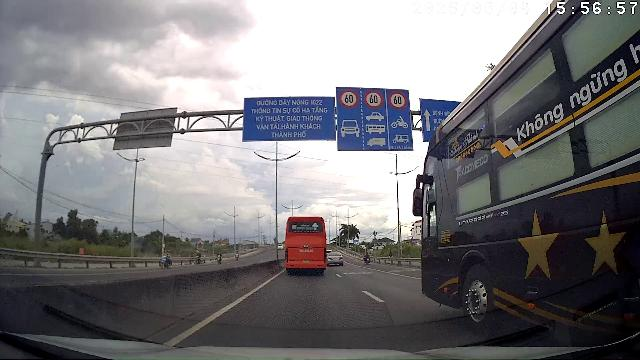127-toc-do-toi-da-60: (364, 89, 384, 109), (388, 90, 408, 110), (338, 90, 358, 109)
